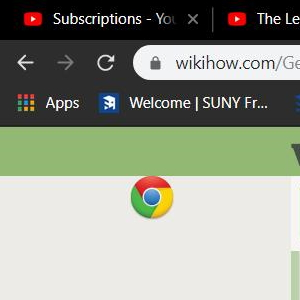chrome: (130, 175, 174, 220)
